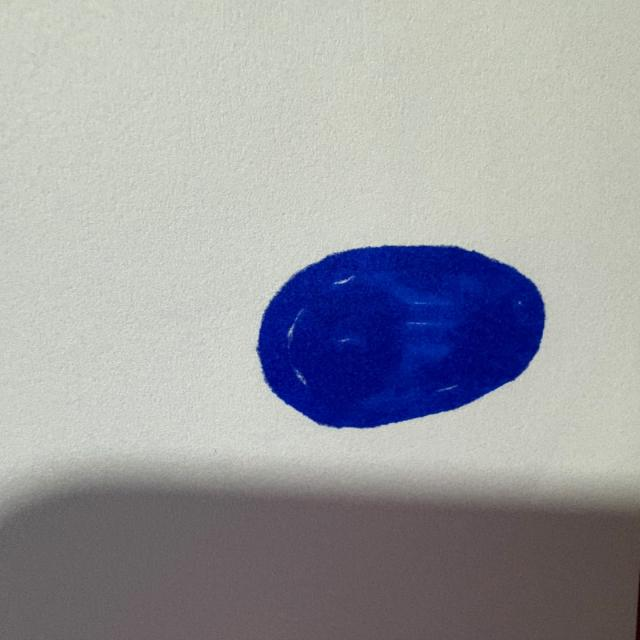Circle: (255, 239, 554, 432)
